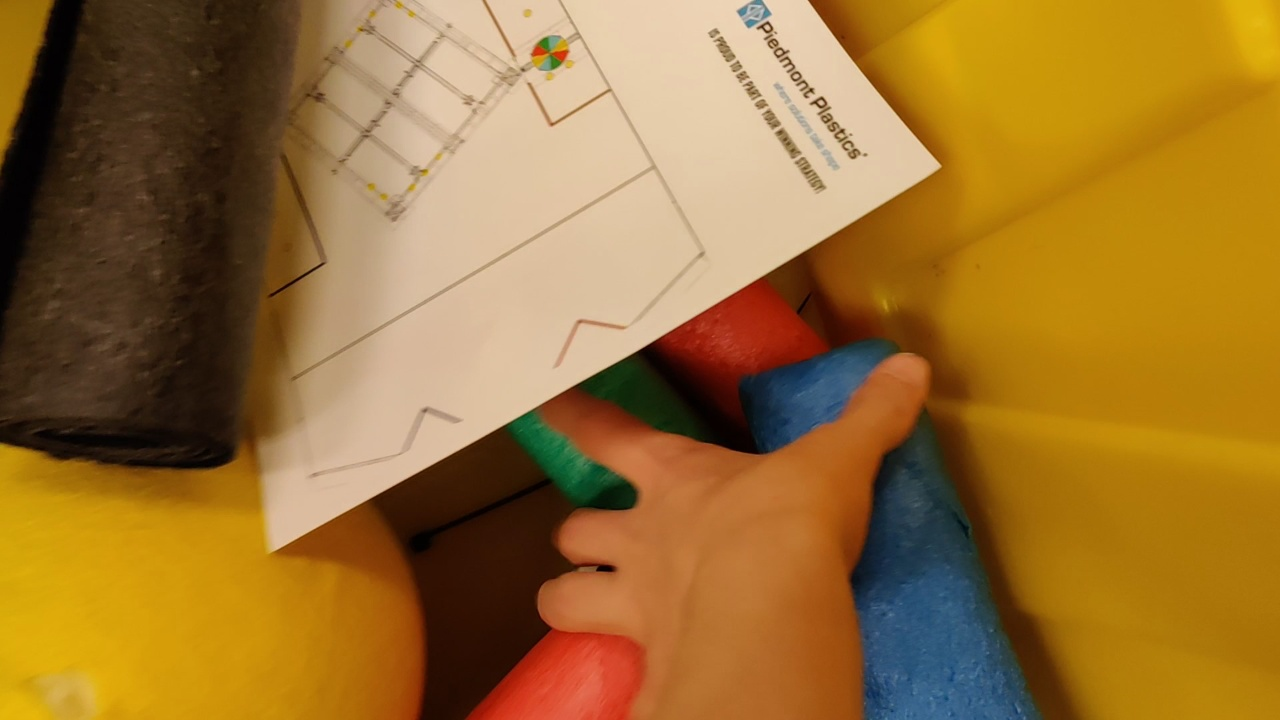Ball: (1, 419, 427, 719)
